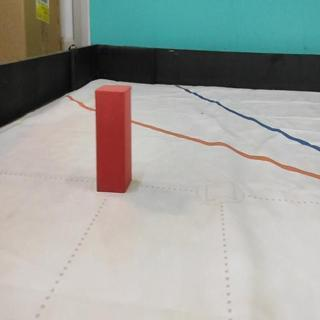redbox: (95, 82, 130, 198)
